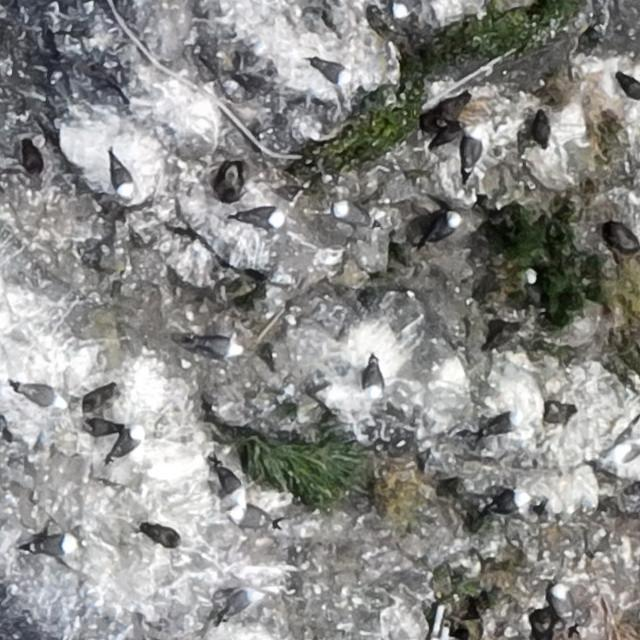umineko: (99, 426, 144, 466), (223, 586, 266, 622), (218, 464, 249, 507), (482, 410, 522, 441), (236, 209, 282, 229), (19, 387, 64, 407), (112, 159, 134, 196), (32, 536, 74, 555), (332, 202, 370, 223), (430, 215, 460, 241), (200, 337, 240, 356), (314, 61, 349, 82), (464, 128, 483, 166), (551, 586, 571, 621), (491, 494, 526, 514), (147, 527, 180, 548), (231, 508, 268, 526), (367, 364, 382, 397), (620, 77, 640, 100), (394, 0, 416, 17)
